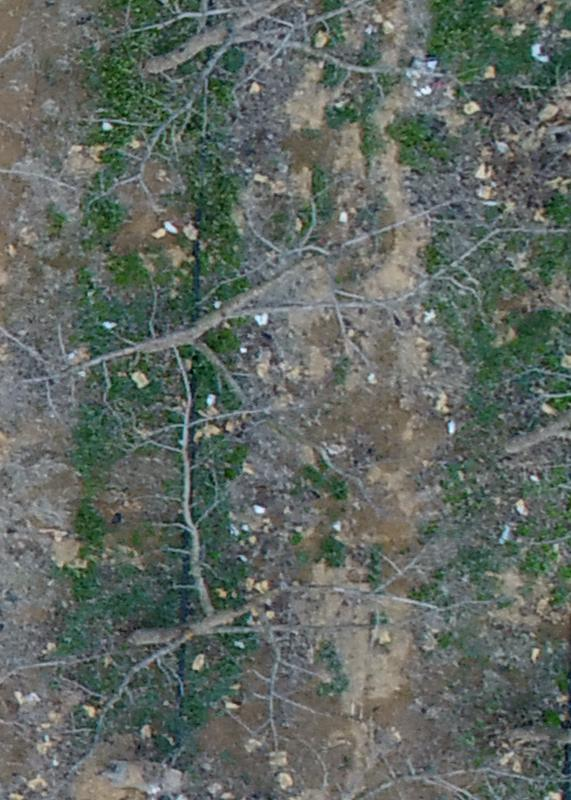apple: (71, 144, 521, 484), (105, 360, 427, 744), (114, 10, 532, 175)
